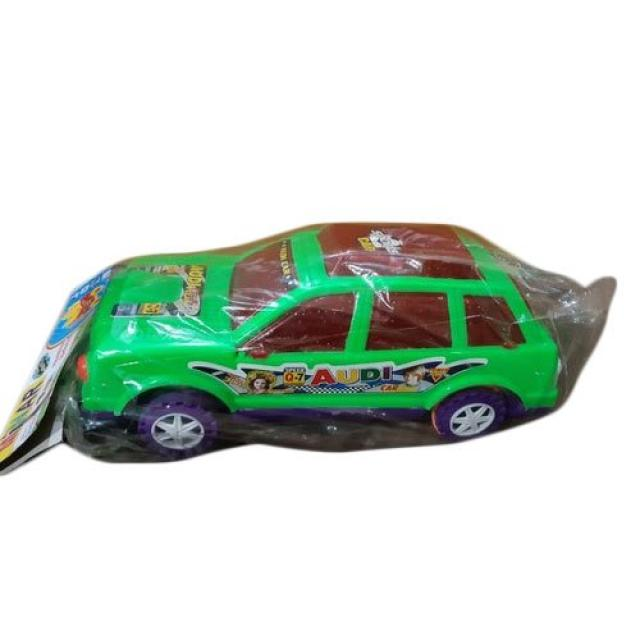Car: (0, 219, 617, 477)
